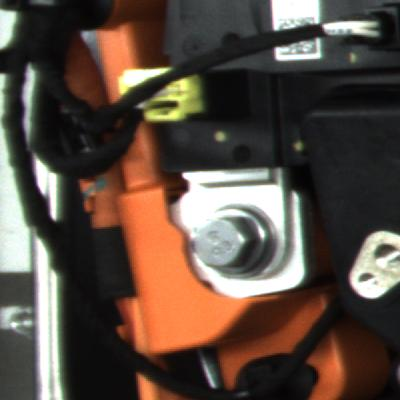nut_b: (178, 189, 280, 296)
